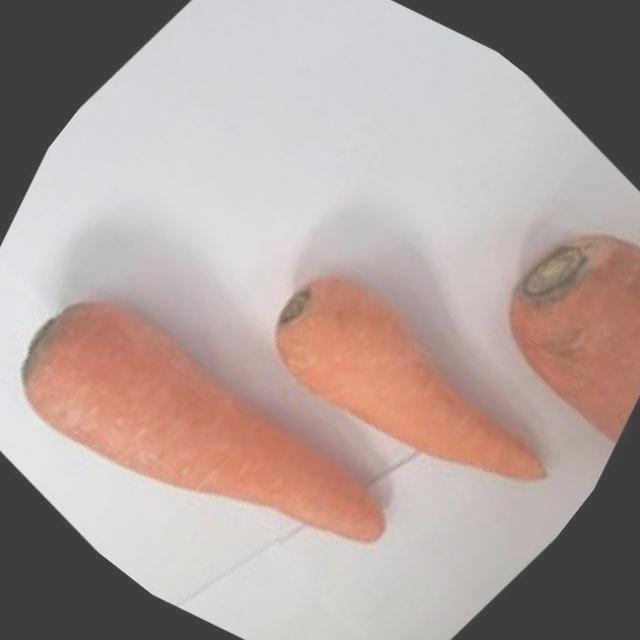carrot: (0, 103, 526, 640), (154, 155, 640, 640), (385, 119, 640, 496)
